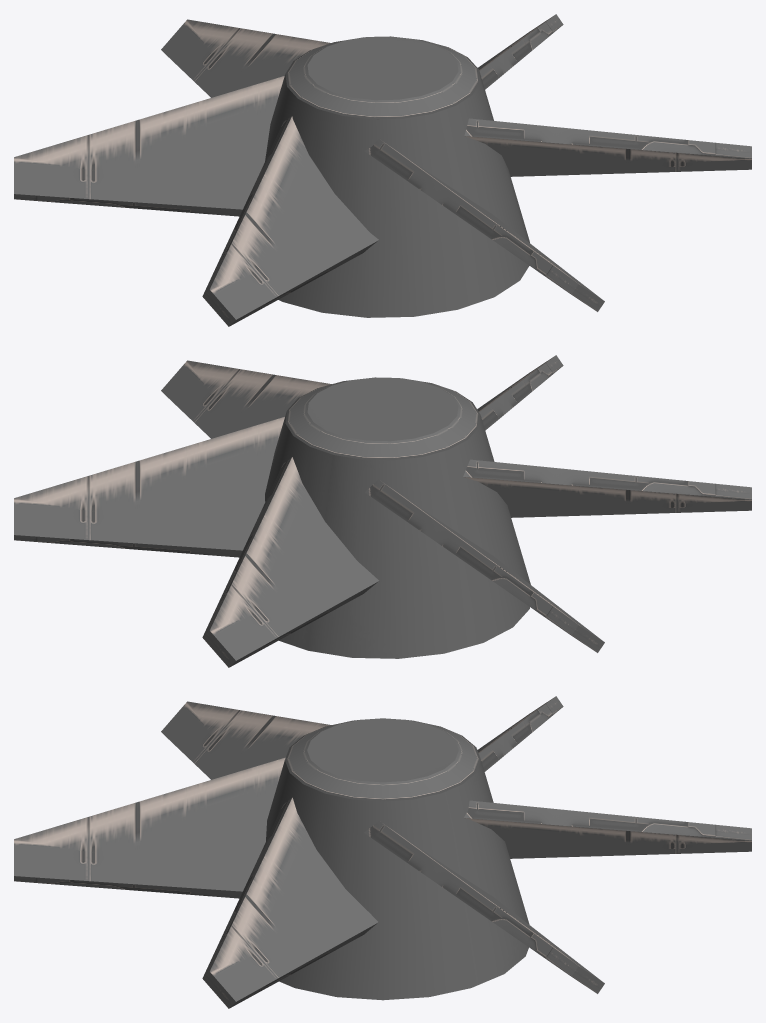
The model's file is Prop_Fan_Small_Propeller.gltf.
The picture shows the model from 3 angles, top to bottom: view 1: azimuth 30°, elevation 25°; view 2: azimuth 150°, elevation 25°; view 3: azimuth 270°, elevation 25°; orthographic projection.
Parts seen in each view (by area): view 1: Prop_Fan_Small_Propeller; view 2: Prop_Fan_Small_Propeller; view 3: Prop_Fan_Small_Propeller.
Part boxes in pixels (<box>): Prop_Fan_Small_Propeller: <box>14,14,751,326</box>; Prop_Fan_Small_Propeller: <box>14,355,751,667</box>; Prop_Fan_Small_Propeller: <box>14,696,751,1008</box>.
Bounding box in the file's own units: 1.06 × 0.3203 × 1.15.
Materials: 2 (2 with a texture image).
